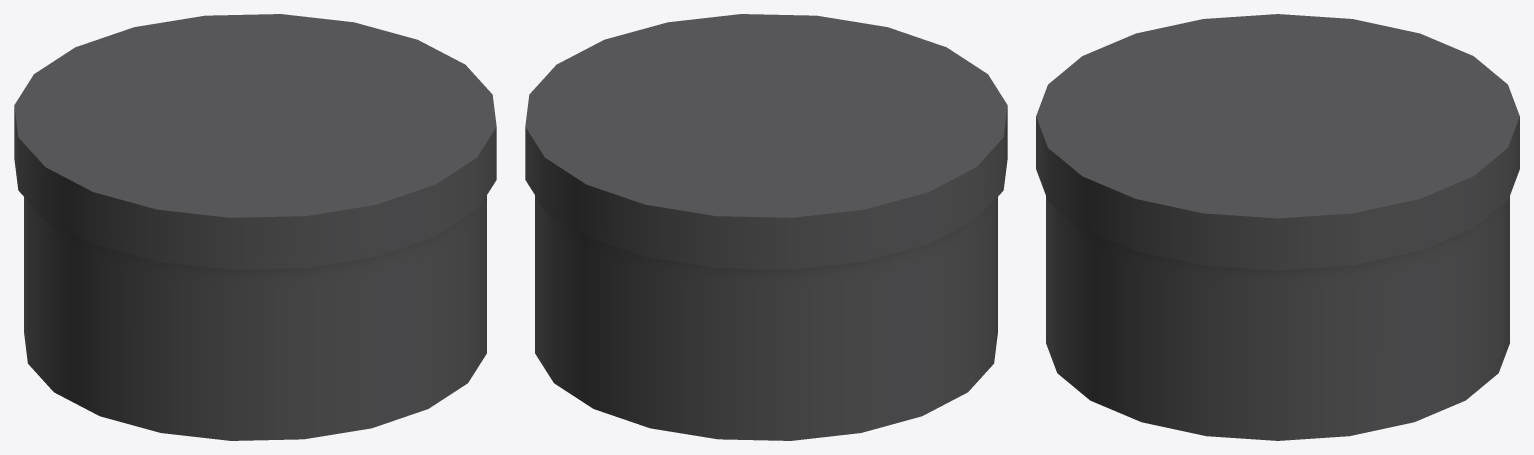
Rendered from frl_apartment_shoebox_01.glb.
The picture shows the model from 3 angles, left to right: view 1: azimuth 30°, elevation 25°; view 2: azimuth 150°, elevation 25°; view 3: azimuth 270°, elevation 25°; orthographic projection.
Visible parts, largest first — view 1: frl_apartment_shoebox_01; view 2: frl_apartment_shoebox_01; view 3: frl_apartment_shoebox_01.
Part boxes in pixels (x1,y1,x2,y2): frl_apartment_shoebox_01: (14,14,496,440); frl_apartment_shoebox_01: (525,14,1007,440); frl_apartment_shoebox_01: (1036,14,1519,440).
Bounding box in the file's own units: 0.2989 × 0.1546 × 0.2989.
1 material, 1 textured.
